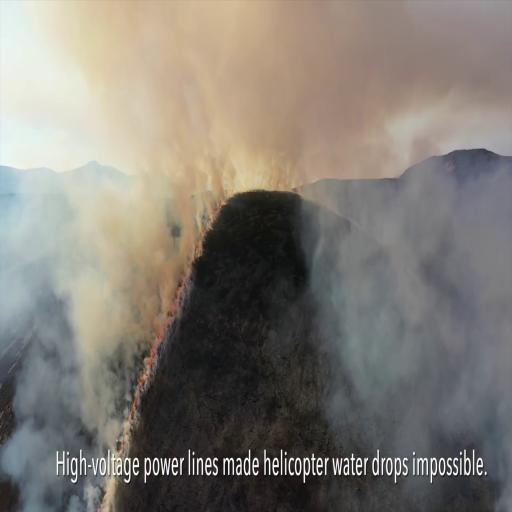smoke: (285, 186, 512, 512), (50, 176, 189, 356)
